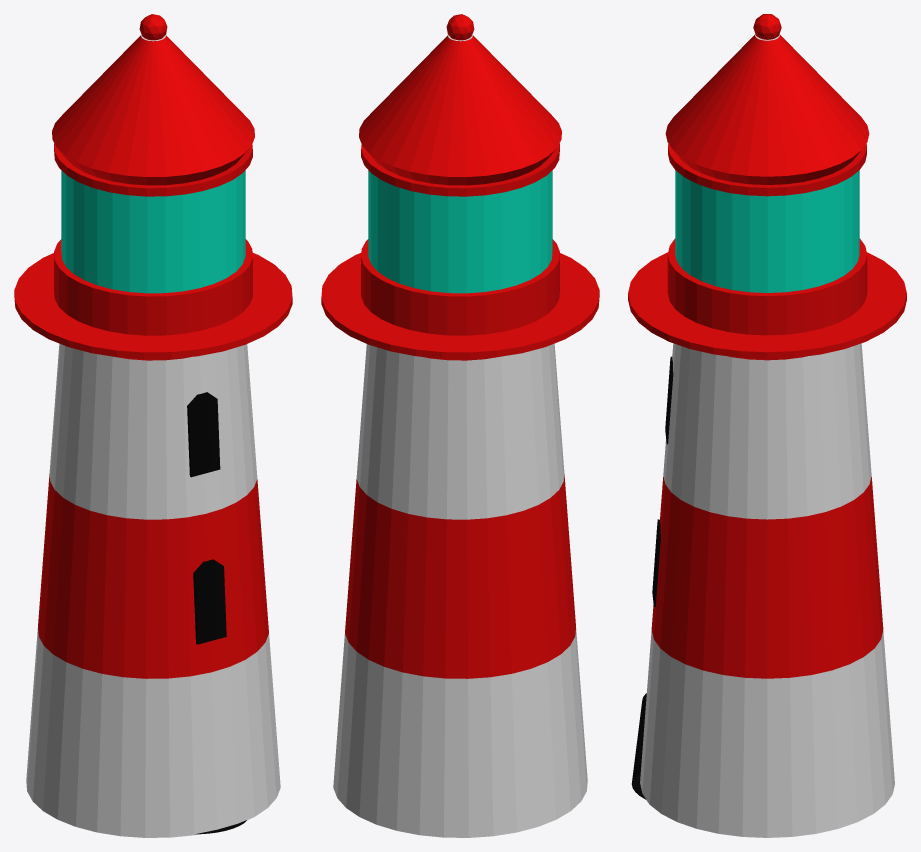
The model's file is farol.fbx.
The picture shows the model from 3 angles, left to right: view 1: azimuth 30°, elevation 25°; view 2: azimuth 150°, elevation 25°; view 3: azimuth 270°, elevation 25°; orthographic projection.
Parts seen in each view (by area): view 1: Black; view 2: Black; view 3: Black.
Part boxes in pixels (<box>): Black: <box>14,14,292,837</box>; Black: <box>321,14,599,837</box>; Black: <box>628,14,906,837</box>.
Bounding box in the file's own units: 219 × 672 × 219.
